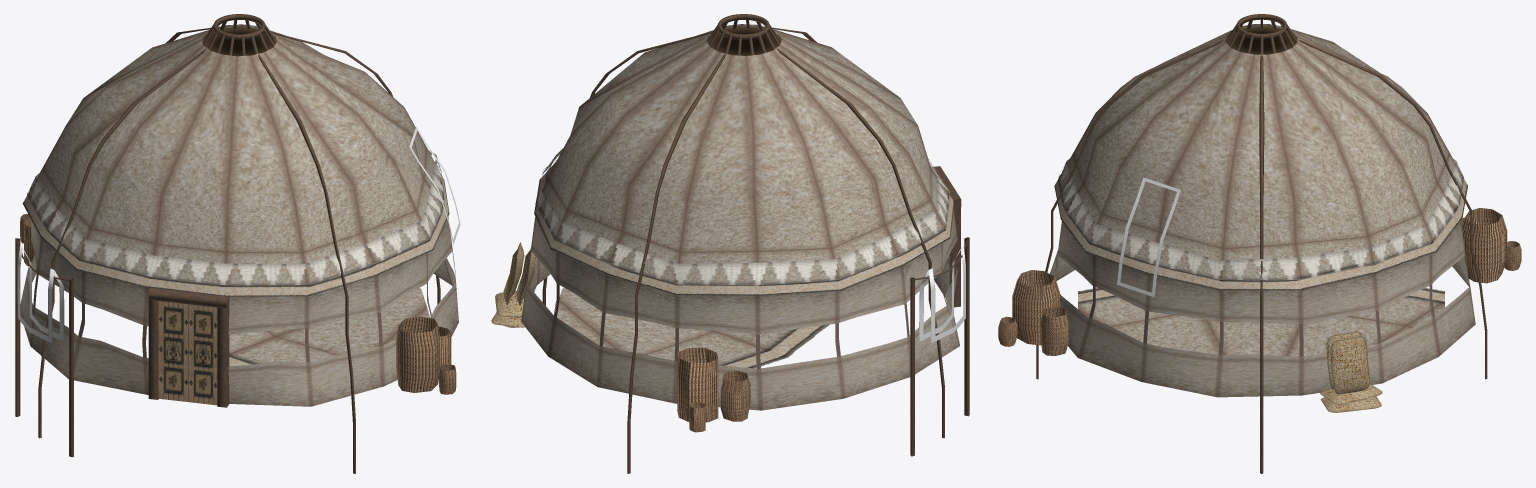
The model's file is step_house_01_03.dae.
3 renders of one model, left to right at view 1: azimuth 30°, elevation 25°; view 2: azimuth 150°, elevation 25°; view 3: azimuth 270°, elevation 25°, orthographic. The views are drawn at different scales.
Visible parts, largest first — view 1: Yurt-Roof.003; view 2: Yurt-Roof.003; view 3: Yurt-Roof.003.
Boxes of the visible parts, x1,y1,x2,y2 form: Yurt-Roof.003: [15, 14, 460, 473]; Yurt-Roof.003: [491, 14, 969, 473]; Yurt-Roof.003: [998, 14, 1521, 473].
Bounding box in the file's own units: 16.47 × 18.39 × 13.74.
